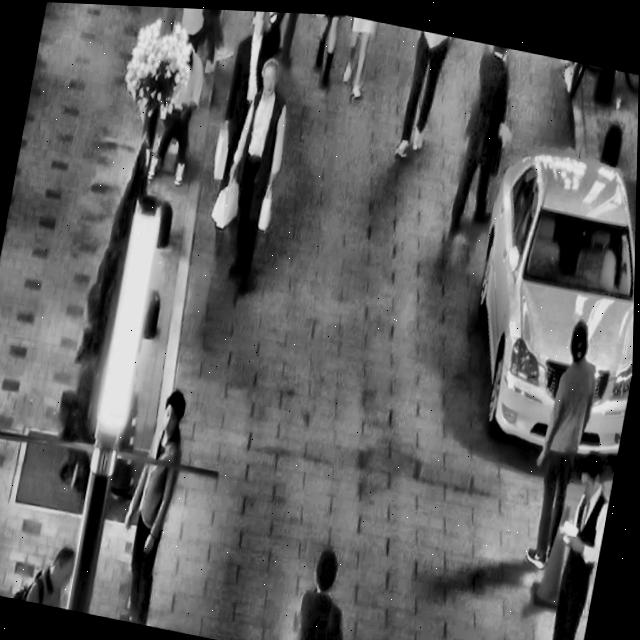light_vehicle: (446, 115, 638, 464)
